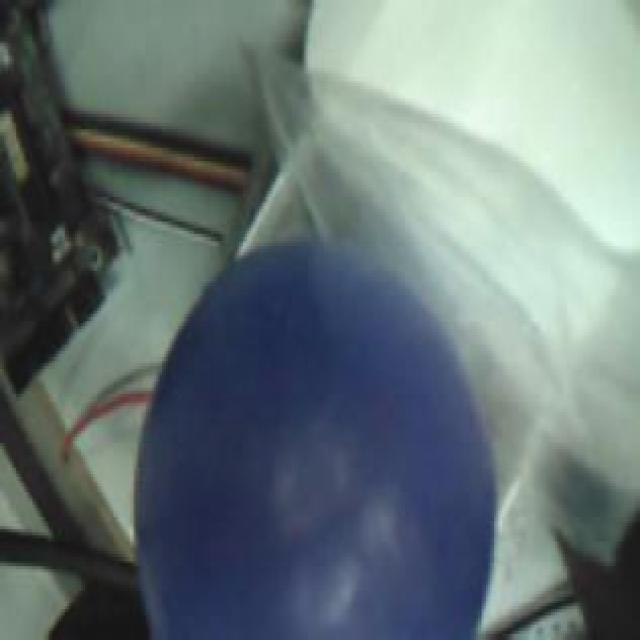BallPurple: (134, 237, 494, 640)
